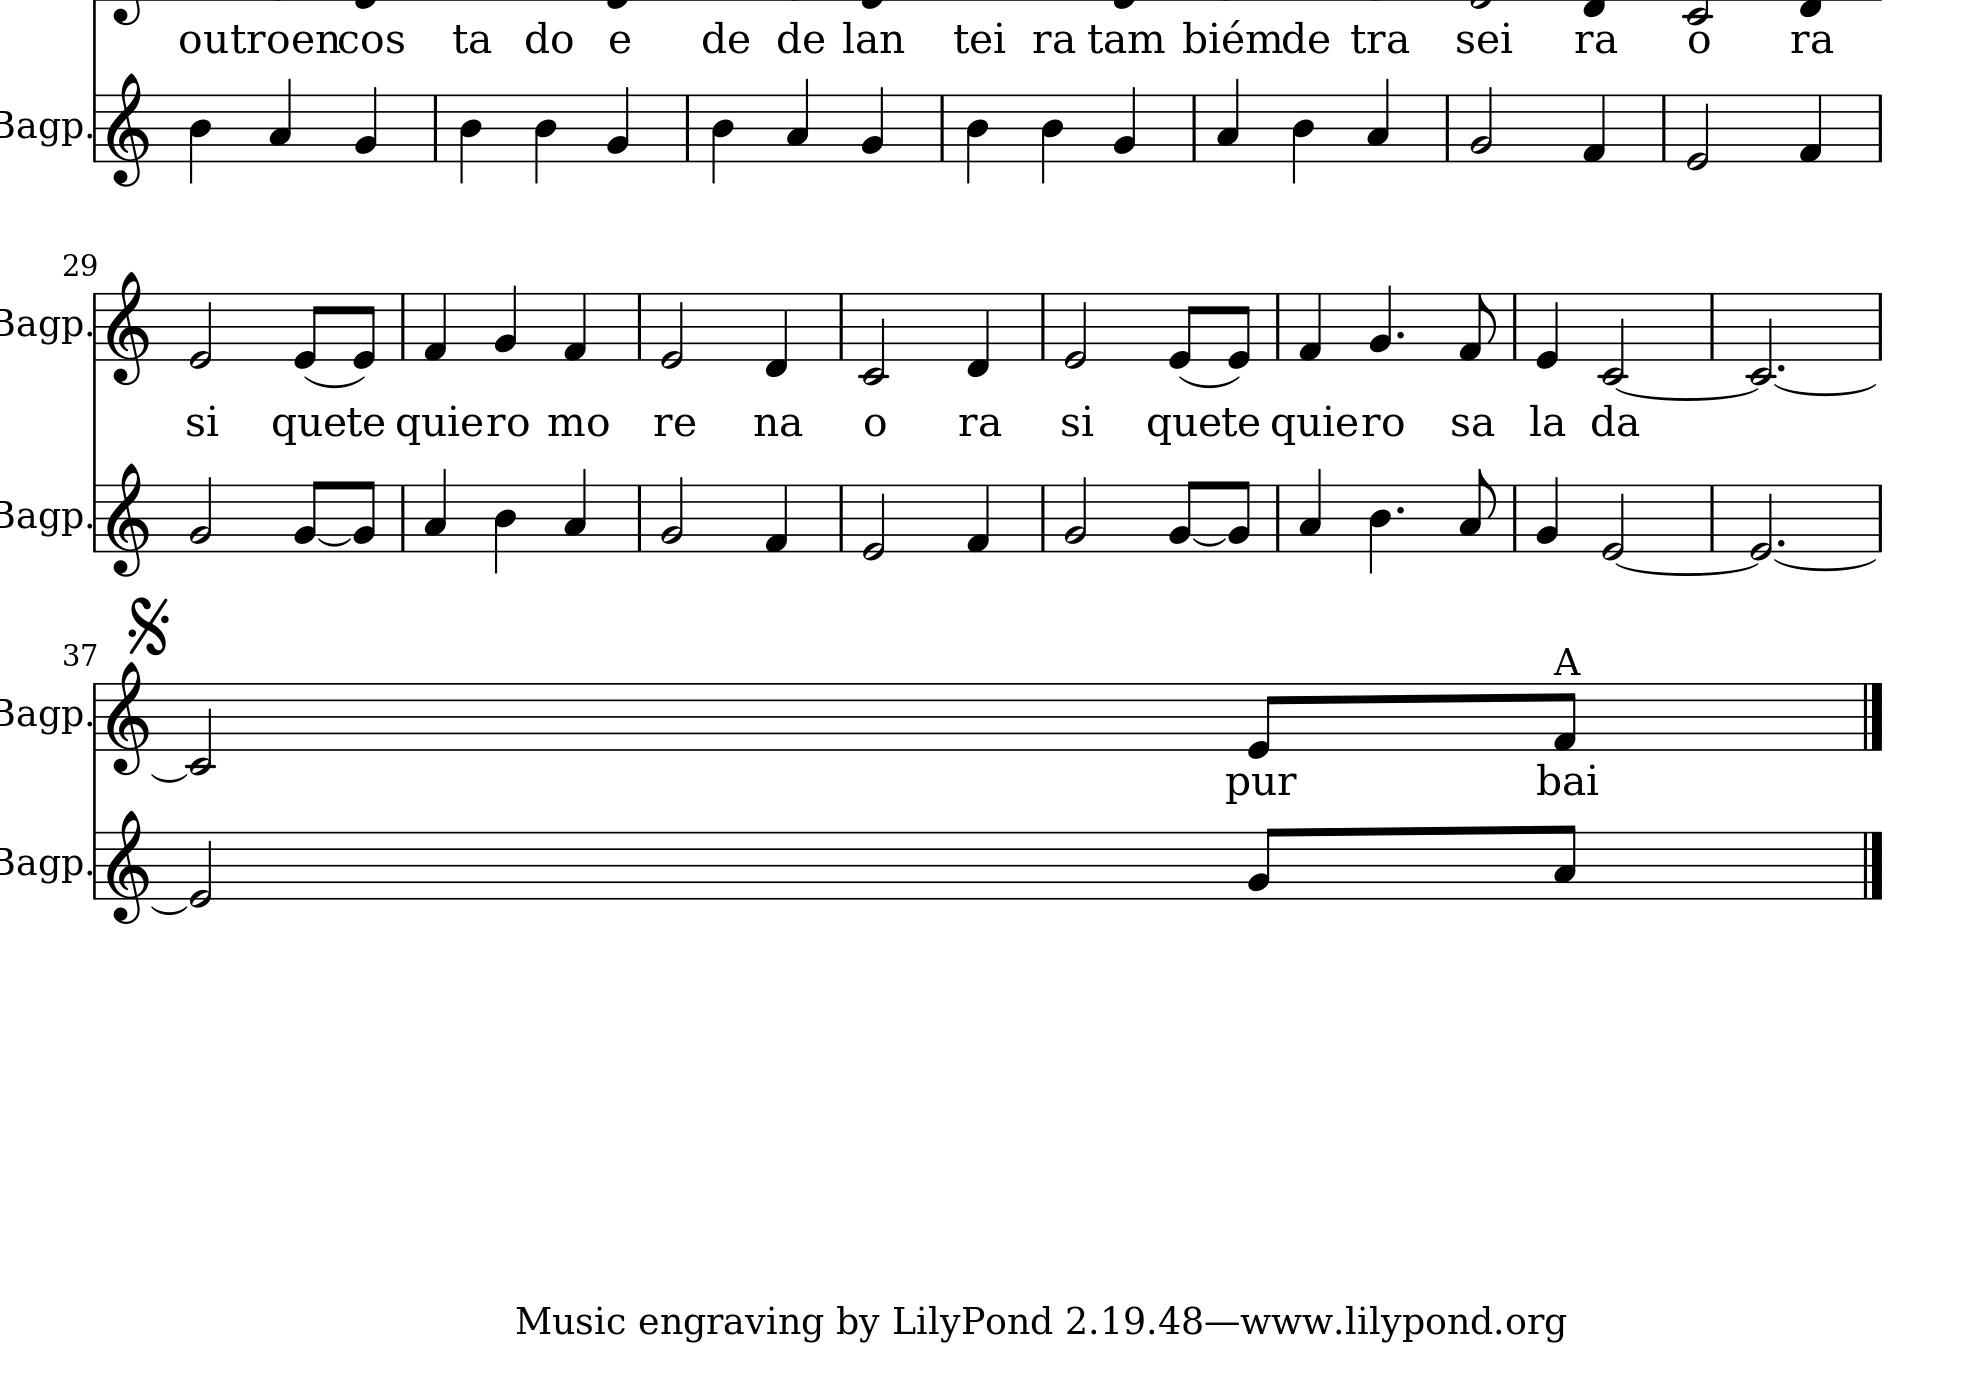2: (60, 251, 79, 277)
2_-2: (184, 680, 218, 776), (1598, 290, 1628, 386), (1746, 290, 1776, 384), (859, 290, 887, 386)
2_0: (1748, 479, 1776, 561), (186, 829, 215, 910), (187, 290, 215, 370), (860, 481, 887, 561), (1600, 481, 1627, 561), (1061, 290, 1089, 369), (659, 290, 685, 370), (1686, 91, 1711, 169)
2_2: (1468, 85, 1495, 162), (187, 475, 215, 552), (658, 475, 685, 552), (1061, 475, 1089, 552)
3: (60, 641, 79, 668)
4_-1: (763, 290, 791, 378), (965, 290, 990, 378)
4_0: (1535, 290, 1562, 370)
4_1: (1581, 92, 1609, 163), (763, 482, 791, 553), (965, 482, 992, 553), (422, 290, 448, 361), (562, 290, 588, 361), (1297, 290, 1323, 361), (1798, 94, 1823, 163)
4_2: (1535, 475, 1562, 553), (354, 85, 379, 163), (860, 85, 886, 163), (493, 283, 519, 361), (606, 85, 630, 163), (1113, 85, 1137, 163), (1368, 283, 1392, 361)
4_3: (268, 77, 293, 162), (786, 77, 810, 163), (1216, 77, 1240, 163), (423, 467, 448, 552), (562, 467, 587, 552), (1299, 467, 1323, 552), (1367, 79, 1389, 162)
4_4: (491, 482, 517, 575), (965, 94, 990, 184), (1367, 482, 1392, 573), (711, 92, 735, 184), (187, 94, 212, 184), (458, 94, 482, 184), (534, 94, 558, 184), (1291, 92, 1315, 183), (1040, 94, 1064, 183)
7: (80, 641, 98, 668)
8_0: (1246, 680, 1279, 760), (293, 290, 325, 370), (1169, 290, 1200, 370), (352, 290, 378, 370), (1228, 290, 1253, 370)
8_1: (1457, 290, 1498, 361), (1553, 680, 1578, 751)
8_2: (1247, 825, 1281, 901), (292, 478, 325, 552), (1167, 478, 1199, 552), (352, 478, 376, 553), (1226, 478, 1250, 553)
8_3: (1457, 467, 1497, 553), (1553, 822, 1578, 901)
9: (80, 249, 98, 277)
Final_barline: (1858, 680, 1885, 748), (1858, 830, 1885, 898)
Gclef: (106, 268, 151, 386), (106, 70, 150, 189), (106, 807, 150, 925), (106, 461, 150, 578), (106, 661, 150, 776)
Segno: (125, 593, 172, 655)
Single_barline: (395, 292, 413, 360), (1872, 94, 1888, 162), (1270, 292, 1287, 360), (395, 482, 411, 550), (1270, 484, 1287, 550), (1872, 484, 1888, 550), (1872, 293, 1888, 358), (88, 832, 103, 900), (934, 94, 949, 160), (1655, 94, 1671, 160), (1507, 292, 1522, 358), (835, 484, 850, 550), (1036, 484, 1051, 550), (1507, 484, 1522, 550), (428, 95, 443, 160), (680, 95, 695, 160), (1187, 95, 1202, 160), (1439, 95, 1454, 160), (1704, 485, 1719, 550), (88, 94, 101, 163), (88, 482, 101, 552), (88, 292, 101, 360), (835, 293, 848, 361), (88, 682, 101, 750), (632, 293, 646, 360), (1705, 293, 1719, 358), (633, 485, 647, 550)
Slur: (1772, 556, 1876, 571), (1773, 383, 1878, 396), (1178, 373, 1240, 389), (304, 373, 364, 389), (150, 771, 190, 783), (148, 906, 190, 916), (316, 535, 352, 547), (1191, 535, 1228, 547)
dot: (1775, 360, 1787, 373), (1394, 502, 1406, 516), (1775, 535, 1787, 549), (1395, 327, 1406, 342)
